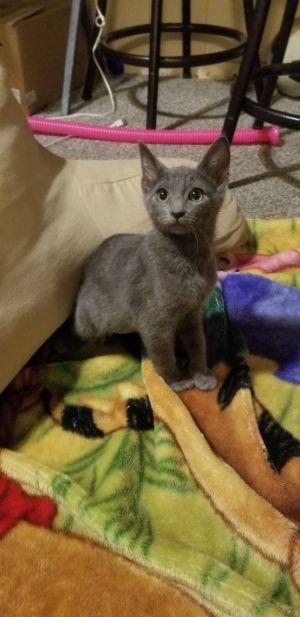rblue: (130, 131, 241, 242)
